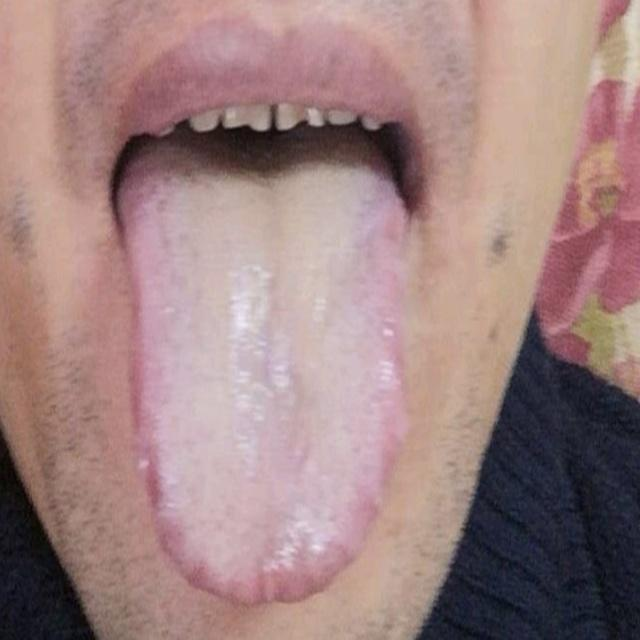baitaishe: (115, 153, 408, 606)
